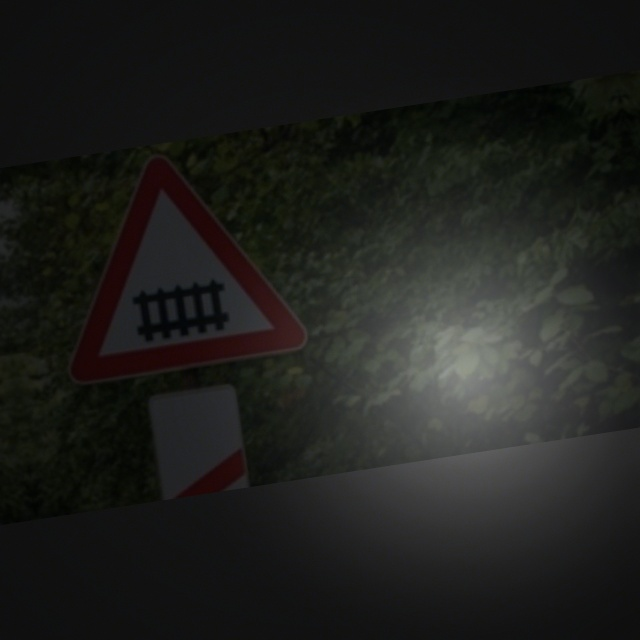Guarded_Level_Crossing: (44, 146, 302, 382)
